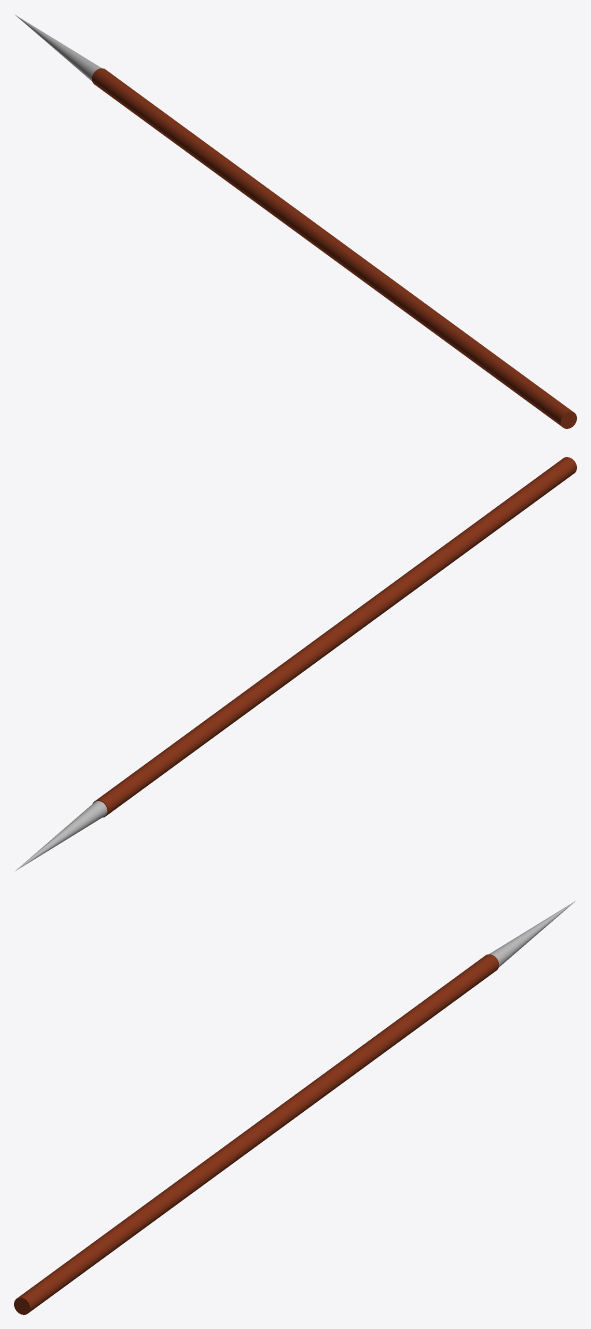
File: arrow.dae
The picture shows the model from 3 angles, top to bottom: view 1: azimuth 30°, elevation 25°; view 2: azimuth 150°, elevation 25°; view 3: azimuth 330°, elevation 25°; orthographic projection.
Parts seen in each view (by area): view 1: Wood, Metal; view 2: Wood, Metal; view 3: Wood, Metal.
Boxes of the visible parts, x1,y1,x2,y2 form: Wood: (92, 68, 576, 428); Metal: (15, 15, 101, 81); Wood: (92, 457, 576, 817); Metal: (15, 801, 107, 870); Wood: (14, 954, 498, 1314); Metal: (489, 901, 575, 967).
Size of the model in its own units: 0.12 by 7.1 by 0.12.
